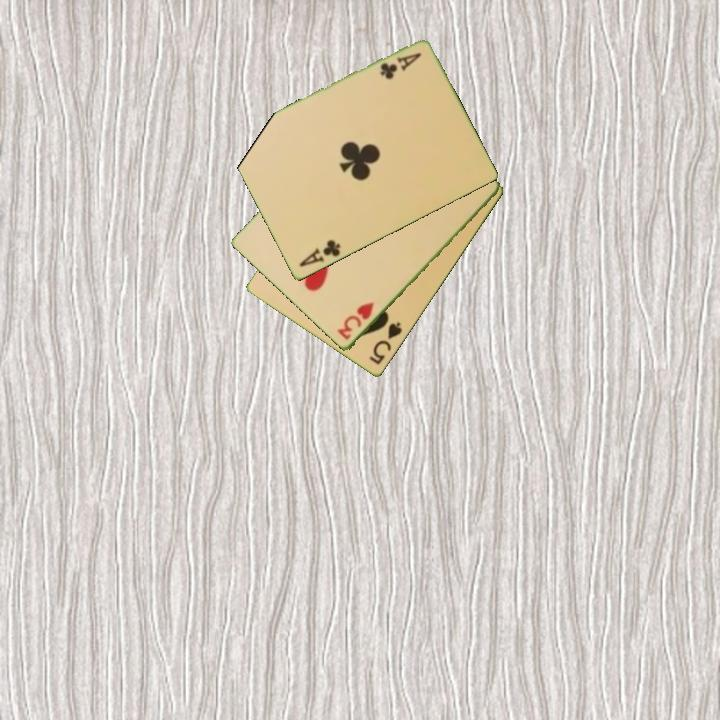3h: (333, 299, 377, 343)
5s: (366, 319, 405, 368)
Ac: (376, 49, 424, 83), (296, 236, 343, 270)
